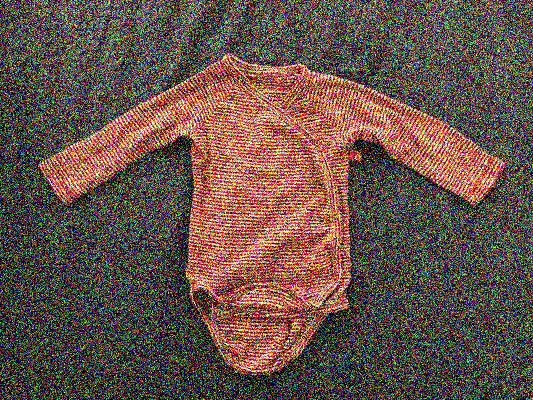Body: (24, 36, 518, 370)
